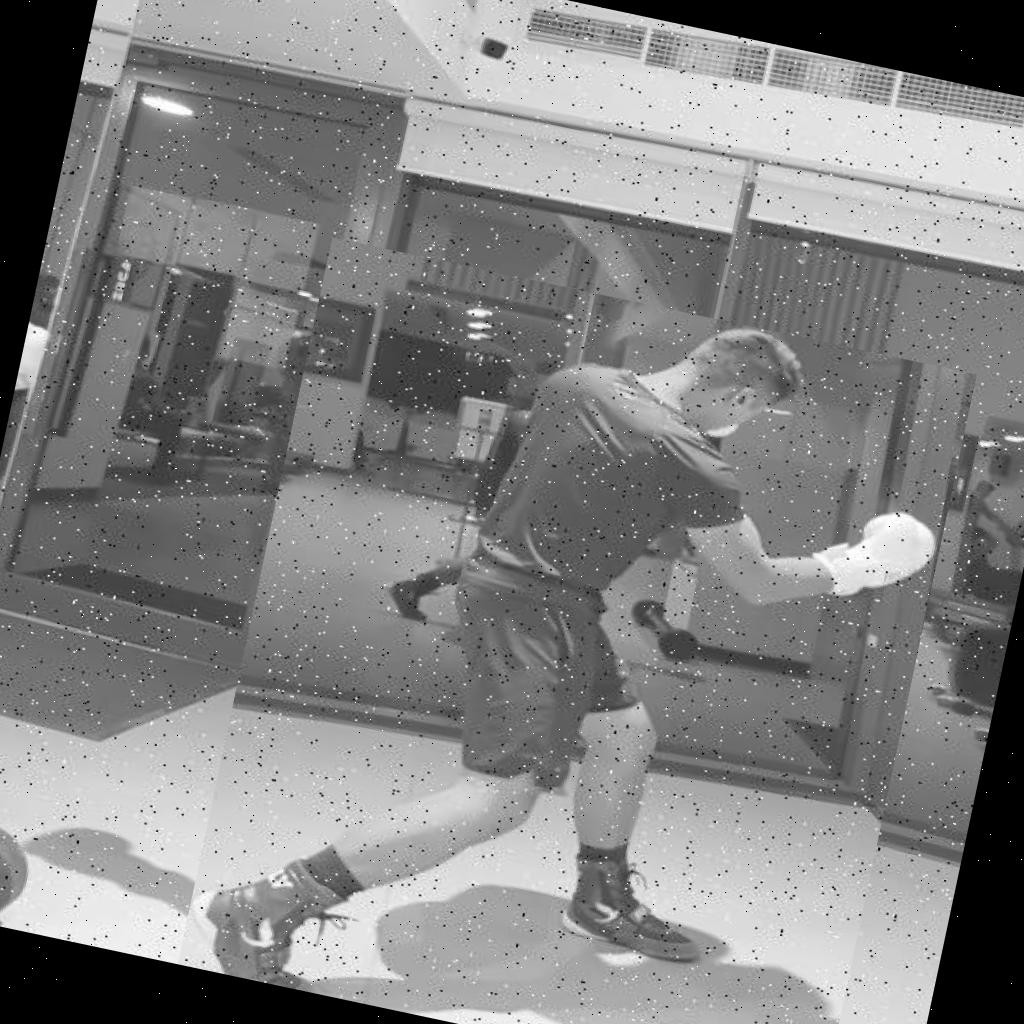uppercut: (177, 237, 976, 1024)
